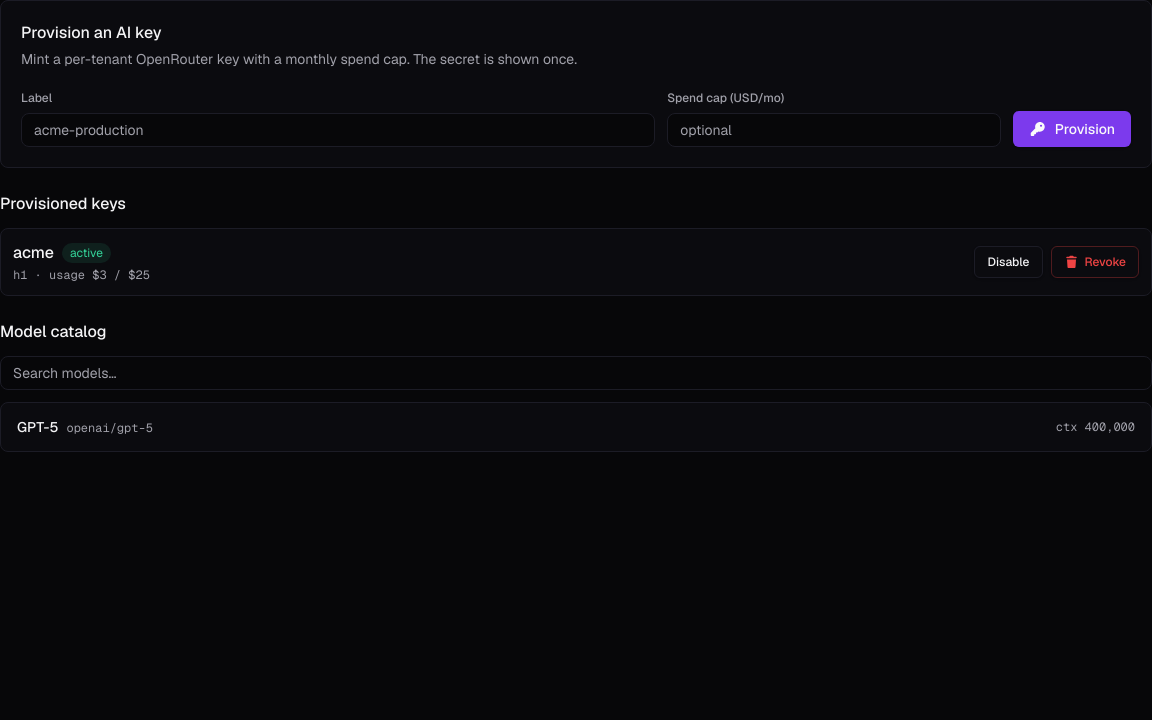
AiReseller › POSTs to /ai/keys and surfaces the one-time secret
The image size is (1152, 720).
Type "acme" into the field named "Key label" at (338, 130), box [21,113,655,147]
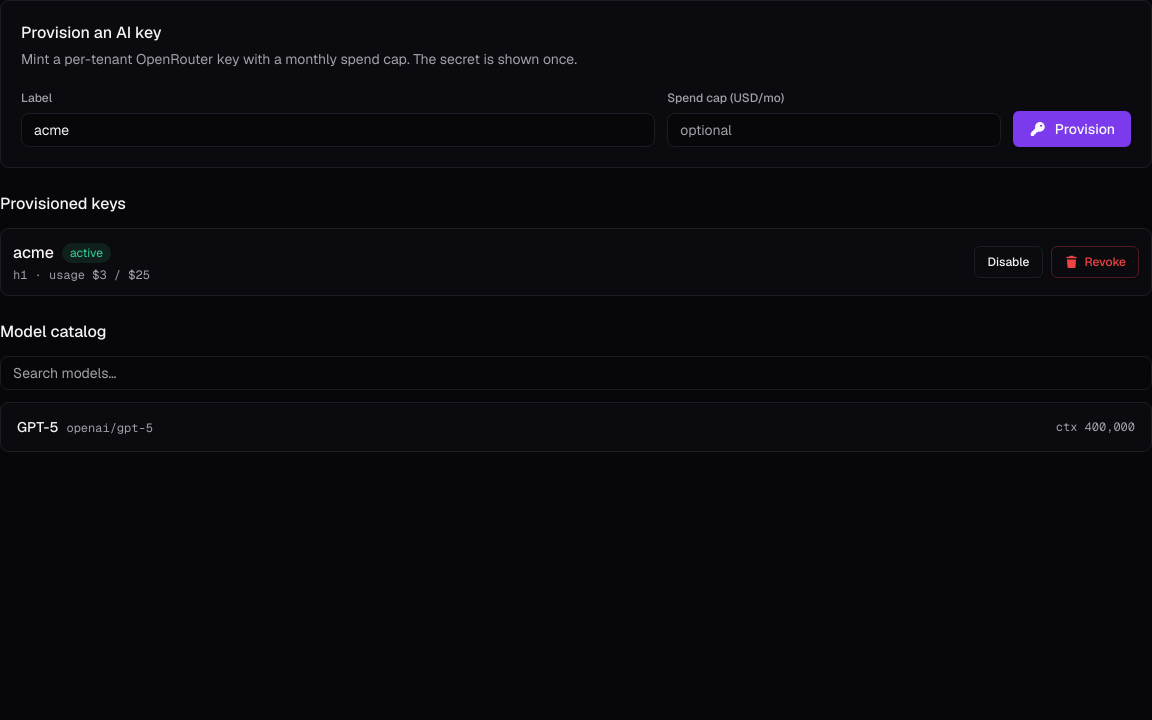
Type "25" into the number field labelled "Spend cap" at (834, 130), box [667,113,1001,147]
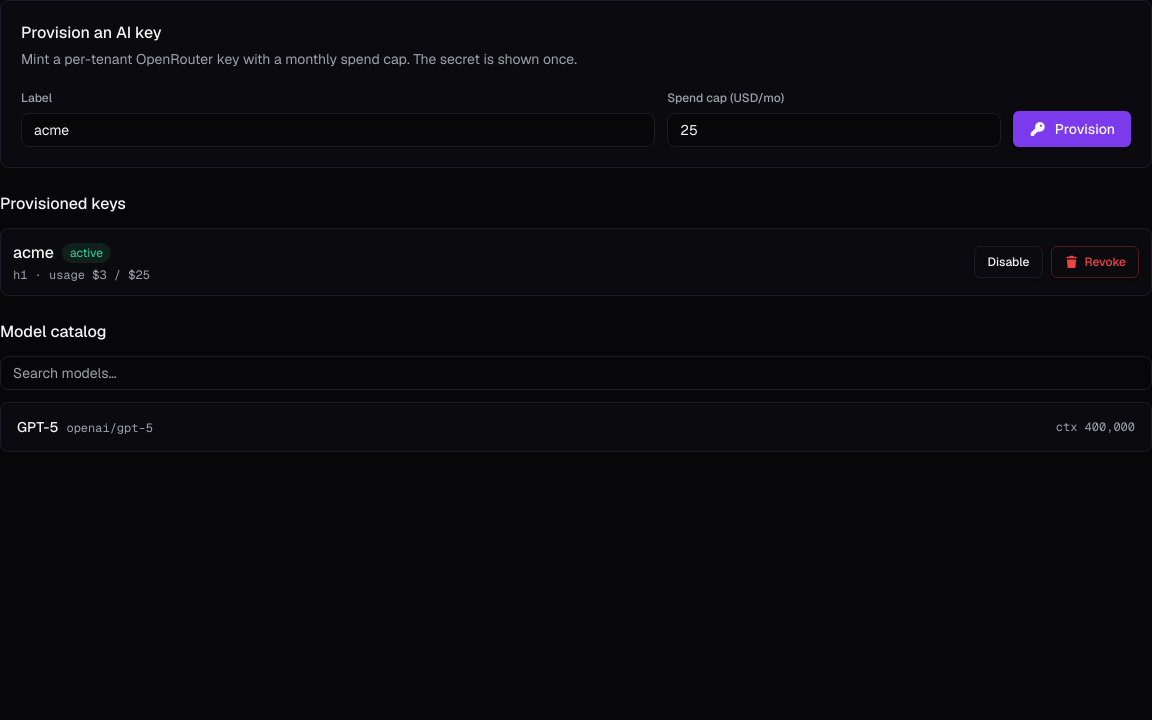
Click the button "Provision" at (1072, 129), box [1013,111,1131,147]
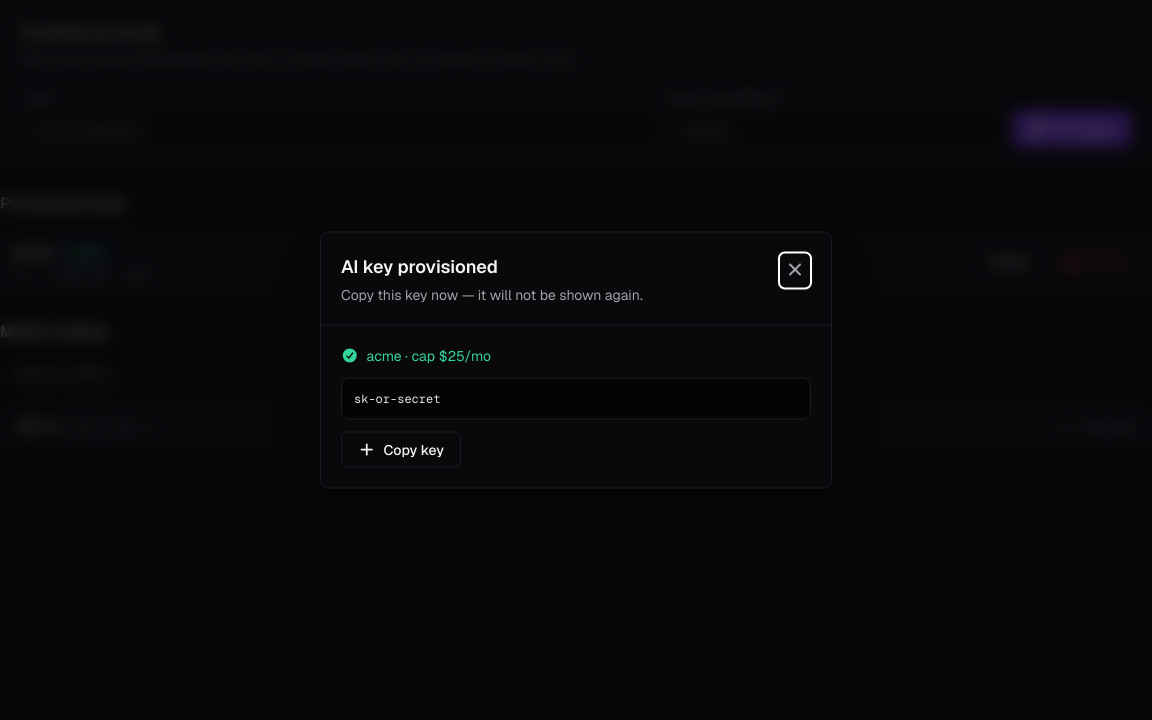
Expected: the text "sk-or-secret" is shown, [341,378,811,420]
